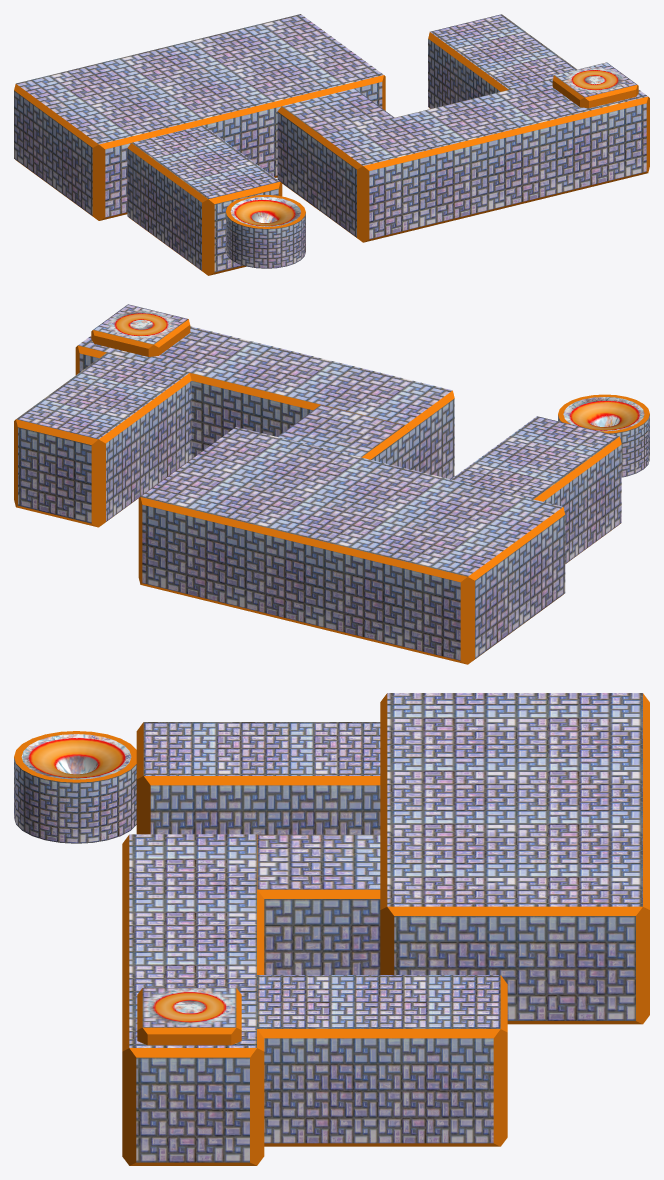
The model's file is Level06.fbx.
3 views of the same model, one above another, from view 1: azimuth 30°, elevation 25°; view 2: azimuth 150°, elevation 25°; view 3: azimuth 270°, elevation 25° (orthographic). The views are drawn at different scales.
Parts seen in each view (by area): view 1: Level06; view 2: Level06; view 3: Level06.
Part boxes in pixels (x1,y1,x2,y2): Level06: (14, 14, 649, 275); Level06: (14, 304, 649, 664); Level06: (14, 693, 649, 1165).
Size of the model in its own units: 1936 by 340 by 1467.
7 materials, 5 textured.
